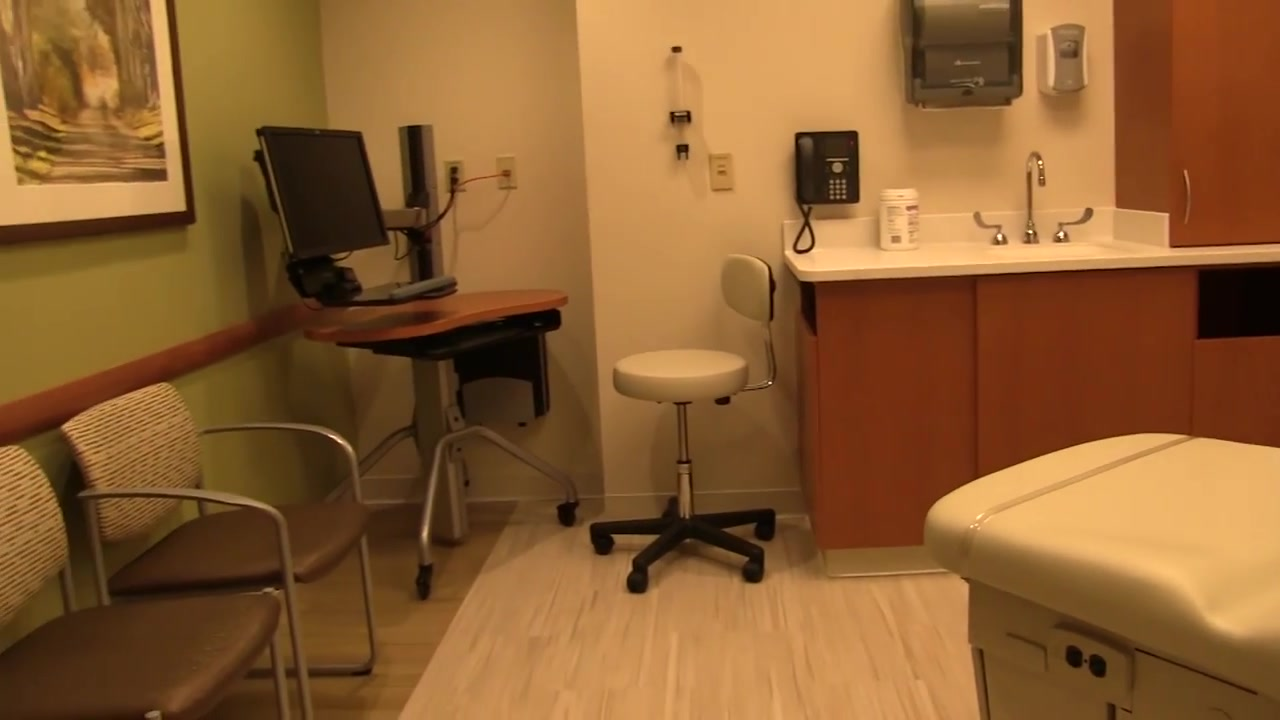cabinet: (1112, 1, 1280, 246)
chair: (56, 382, 379, 720), (1, 446, 292, 720), (590, 254, 778, 594)
computer: (256, 124, 393, 260)
counter: (789, 243, 1280, 583)
dispenser: (902, 1, 1024, 110), (1032, 23, 1089, 97)
exam_table: (926, 430, 1280, 720)
faucet: (972, 149, 1095, 245)
handle: (1175, 165, 1196, 224)
table: (307, 288, 583, 589)
telephone: (793, 129, 861, 256)
